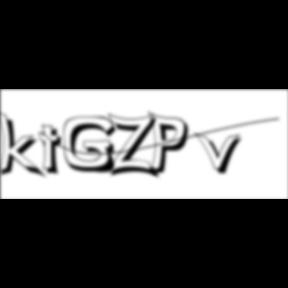G: (64, 116, 122, 176)
P: (148, 110, 196, 180)
Z: (108, 112, 162, 181)
k: (0, 108, 48, 181)
t: (38, 124, 70, 179)
v: (195, 131, 249, 177)
